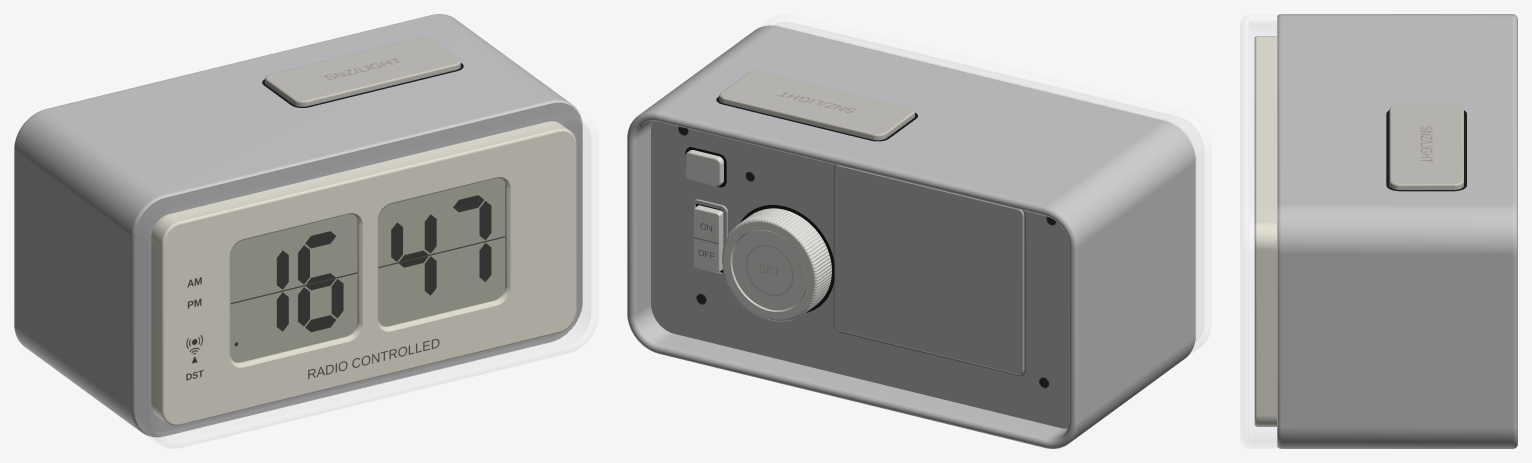
File: alarm_clock.glb
3 renders of one model, left to right at view 1: azimuth 30°, elevation 25°; view 2: azimuth 150°, elevation 25°; view 3: azimuth 270°, elevation 25°, orthographic.
Visible parts, largest first — view 1: Aluminium_BeadBlasted, Face_Plate_Printed, LCD, Body_Inner, Face_Plate, Clear_Acrylic, Snooze_Button_Top, Face_Plate_Bevel, Snooze_Button; view 2: Aluminium_BeadBlasted, Back_Panel, Snooze_Button_Top, Clear_Acrylic, Knob, Knob_Face, White_Plastic, Snooze_Button, Slider_Printed, Shadow_Gap, Back_Panel_Plain; view 3: Aluminium_BeadBlasted, Face_Plate, Snooze_Button_Top, Clear_Acrylic, Snooze_Button, Shadow_Gap.
Part boxes in pixels (x1,y1,x2,y2): Aluminium_BeadBlasted: (14,14,582,437); Face_Plate_Printed: (164,131,575,424); LCD: (230,179,504,362); Body_Inner: (134,102,582,436); Face_Plate: (151,121,576,425); Clear_Acrylic: (150,113,591,441); Snooze_Button_Top: (267,37,458,100); Face_Plate_Bevel: (229,177,510,367); Snooze_Button: (265,37,460,106); Aluminium_BeadBlasted: (627,25,1195,448); Back_Panel: (651,121,1068,428); Snooze_Button_Top: (721,71,913,133); Clear_Acrylic: (774,21,1204,342); Knob: (722,208,831,321); Knob_Face: (732,230,806,310); White_Plastic: (685,150,723,272); Snooze_Button: (719,70,914,140); Slider_Printed: (694,209,718,271); Shadow_Gap: (685,96,917,312); Back_Panel_Plain: (691,199,727,277); Aluminium_BeadBlasted: (1277,14,1517,448); Face_Plate: (1254,36,1276,426); Snooze_Button_Top: (1391,104,1461,183); Clear_Acrylic: (1248,20,1276,442); Snooze_Button: (1389,104,1463,189); Shadow_Gap: (1386,110,1466,191).
Bounding box in the file's own units: 0.125 × 0.0654 × 0.067.
16 materials, 6 textured.
